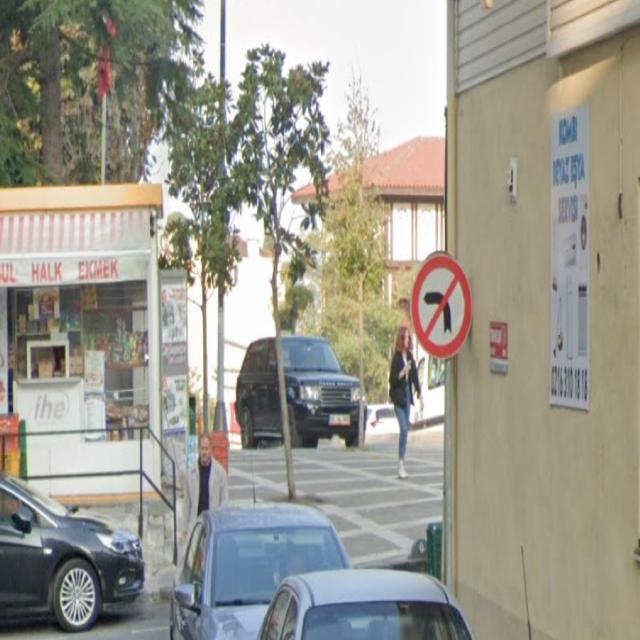soladonulmez: (410, 257, 471, 357)
